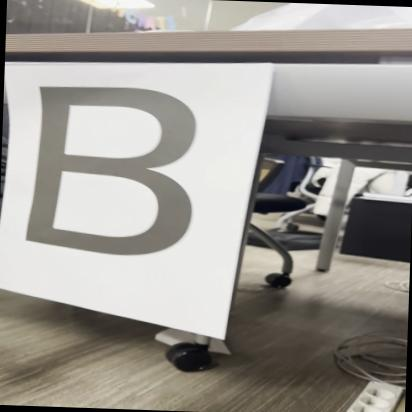seat: (13, 80, 226, 270)
